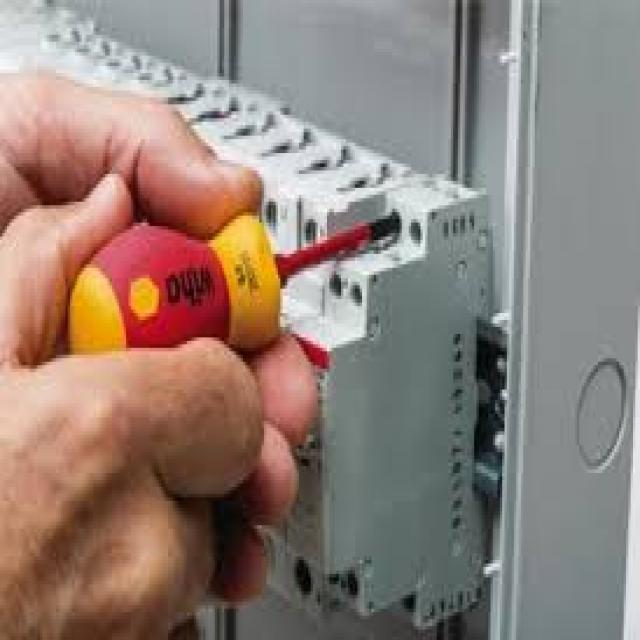screwdriver: (66, 200, 408, 384)
